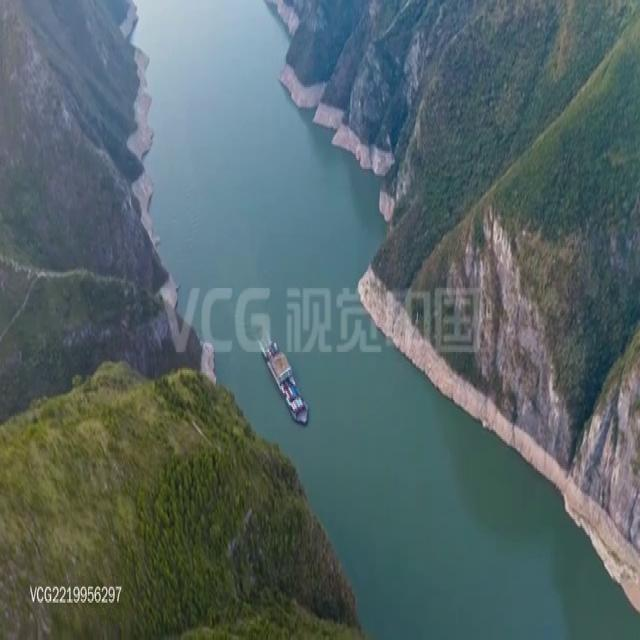cargoship: (258, 327, 312, 426)
